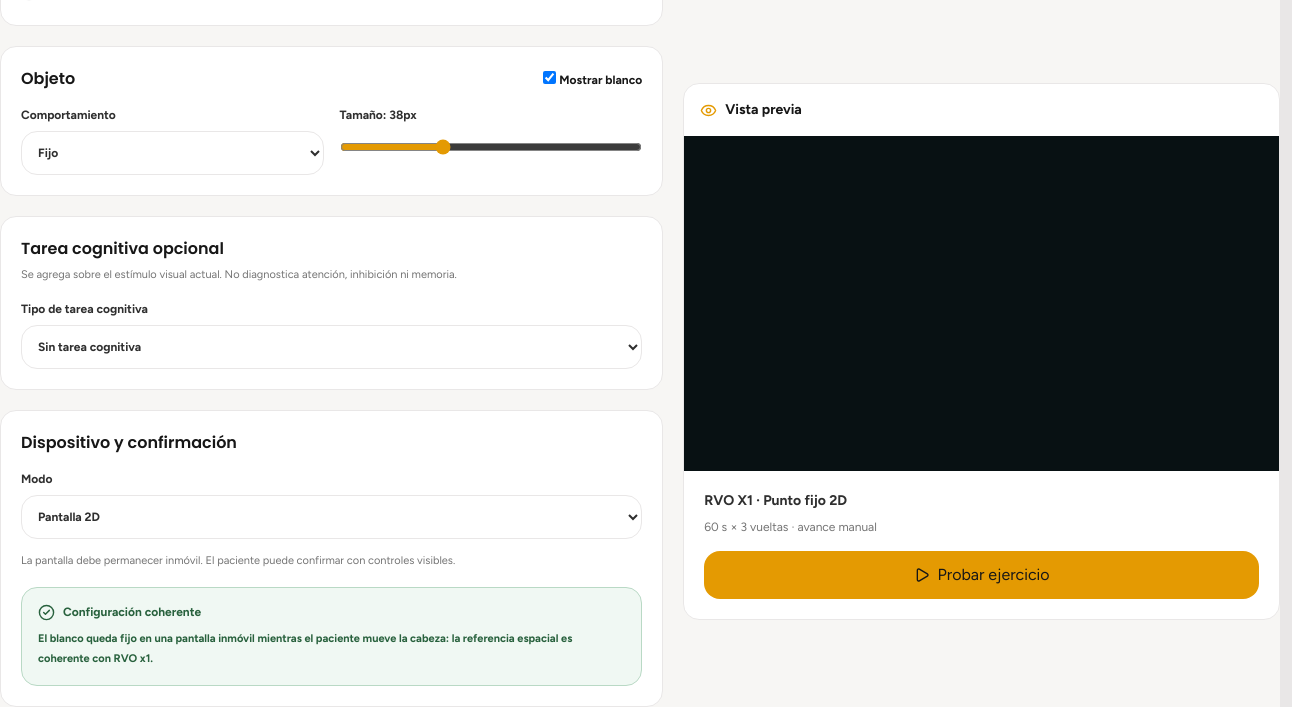
Scenario: creación de ejercicios › configura rare_target con consigna previa, tiempo y confirmación manual
(page scrolled)
Select "Detección de objetivo raro" in the dropdown labelled "Tipo de tarea cognitiva" at (332, 347), box [21,325,642,369]
(page scrolled)
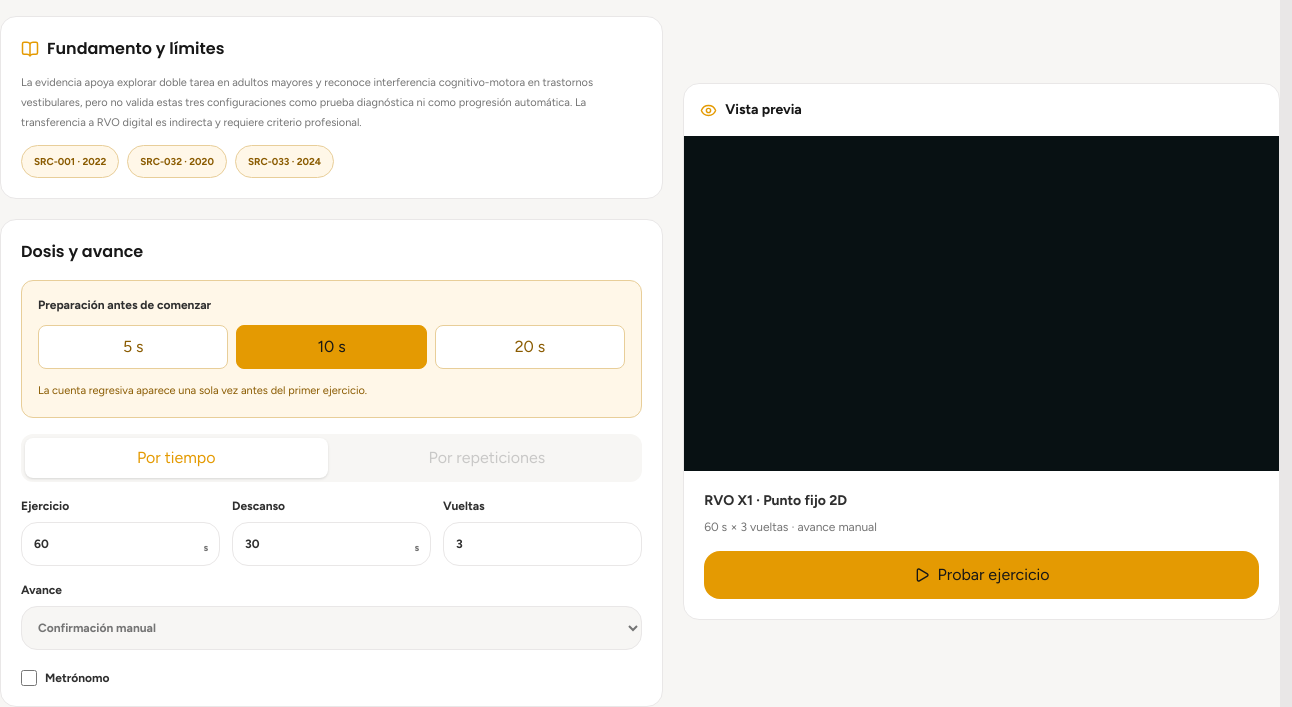
Check: the dropdown labelled "Avance" shows "Confirmación manual", box [21,606,642,650]
Check: the button "Por repeticiones" is disabled, box [336,438,638,478]
Check: the dropdown labelled "Avance" is disabled, box [21,606,642,650]
